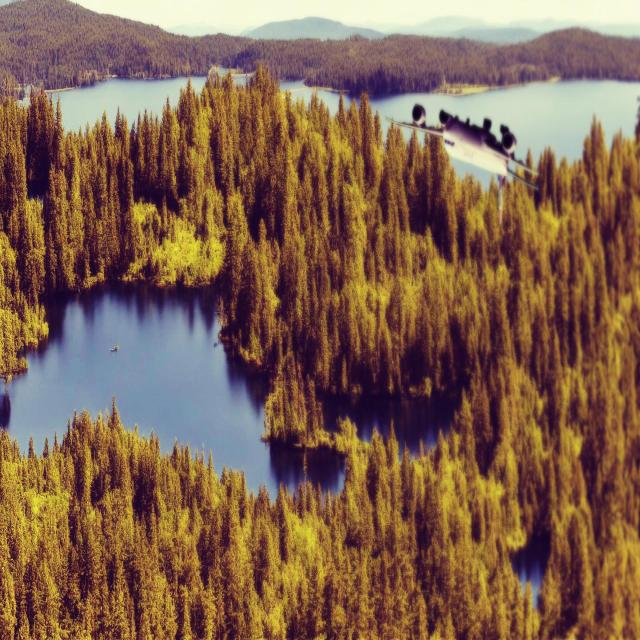airplane: (385, 104, 539, 225)
